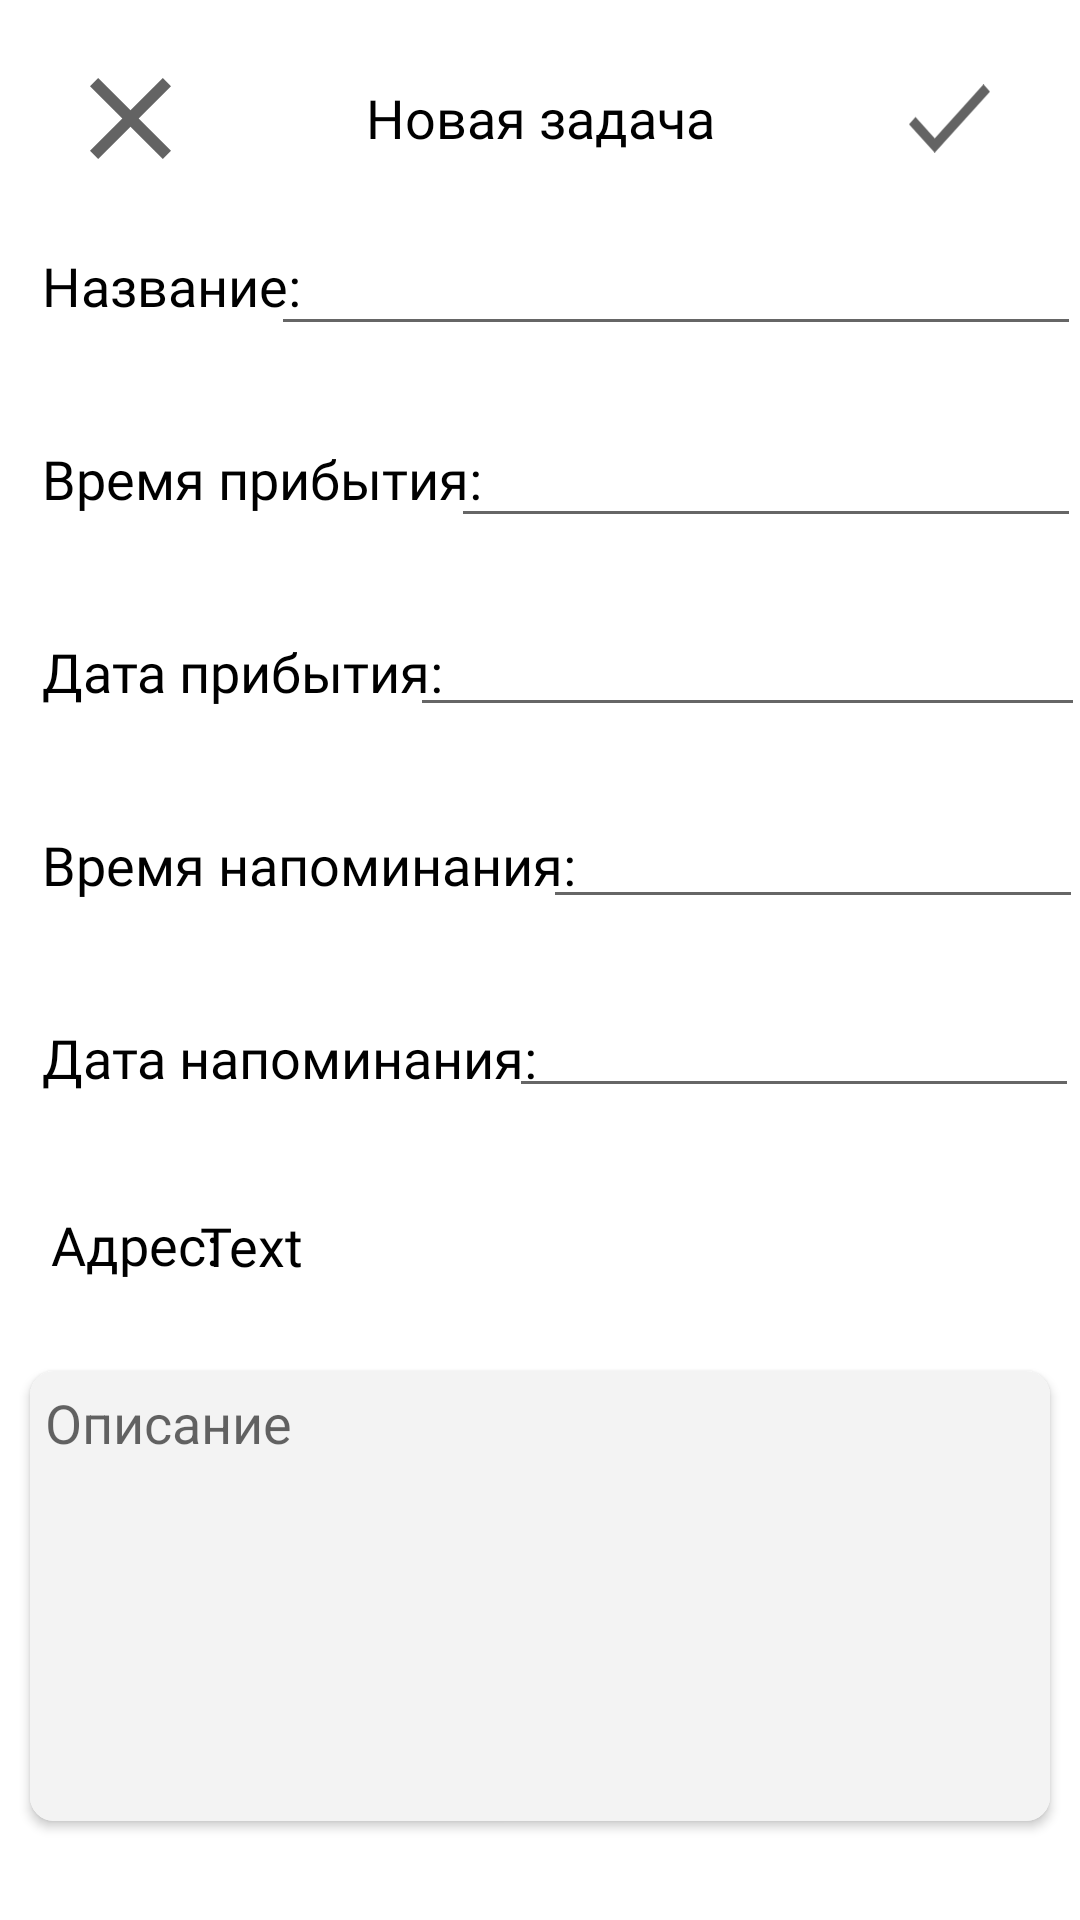

Icons on this 1080x1920 Android screen, each with the point to tap as (x=x, y=y):
accept: (x=949, y=118)
cancel: (x=130, y=118)
